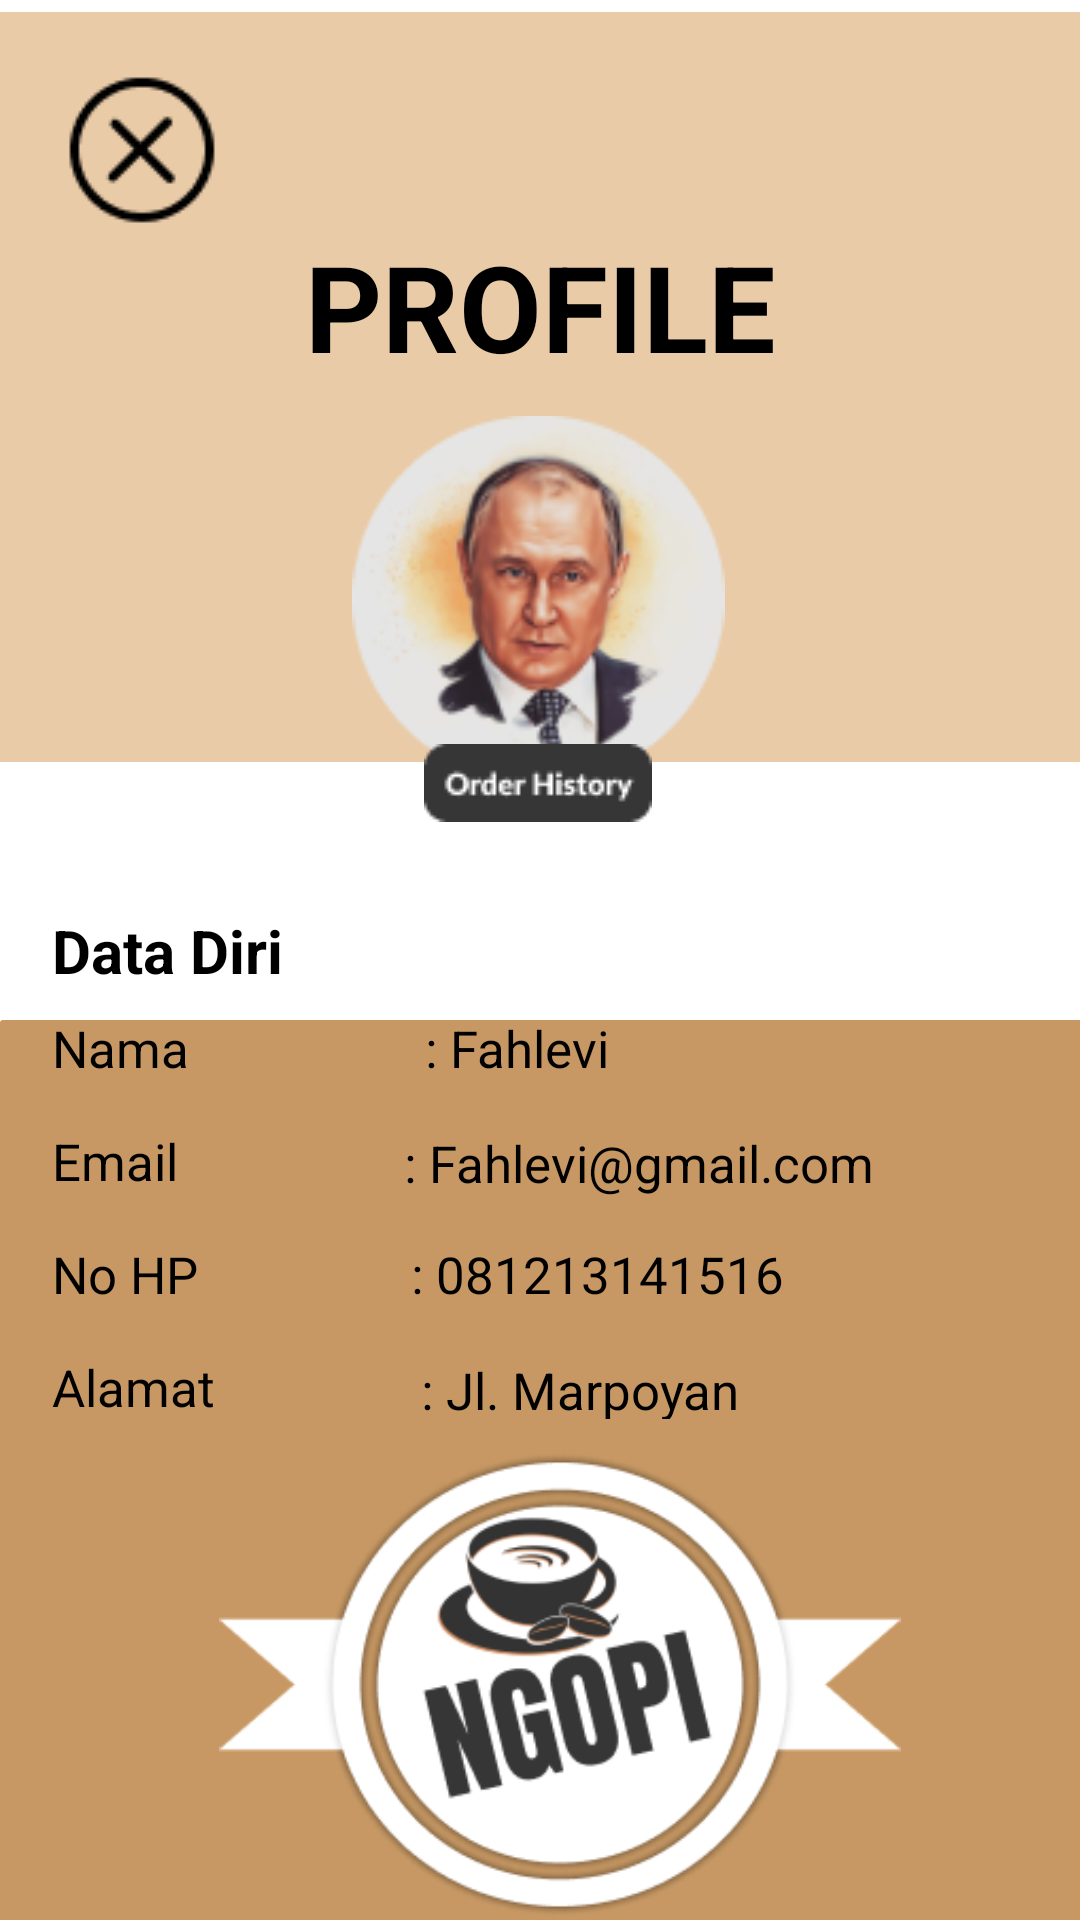

Named icons in this screenshot (1080 × 1920) and their bounding boxes, (x1, y1, x2, y2):
close: (69, 77, 215, 223)
